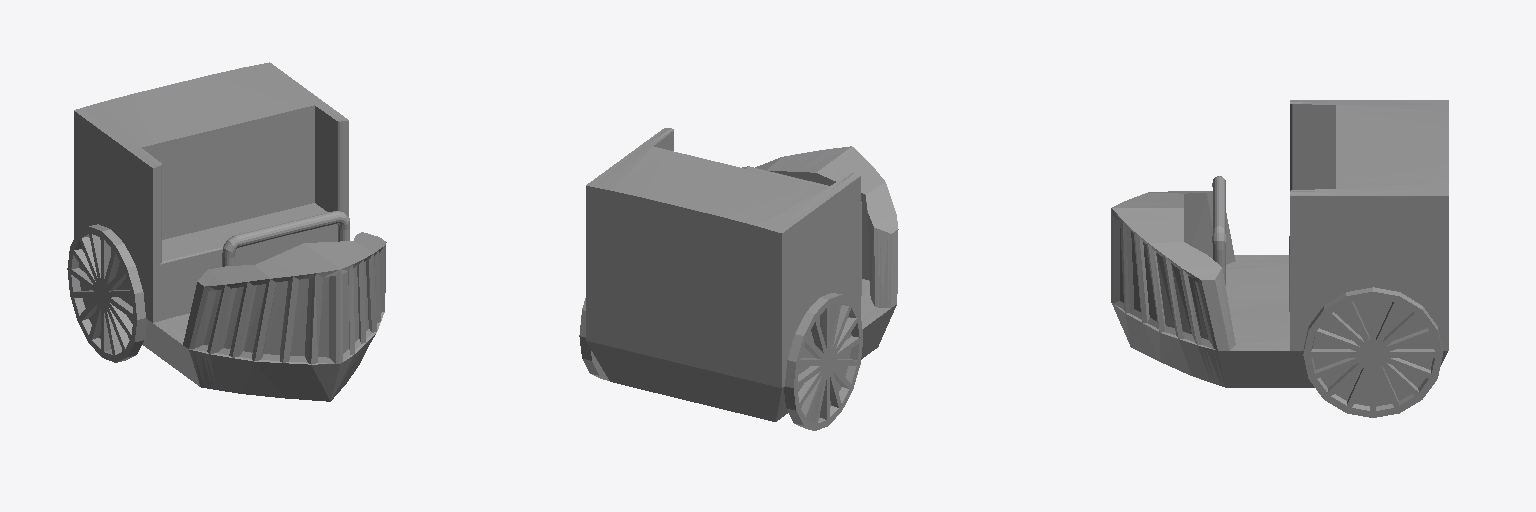
Rendered from kart.obj.
The picture shows the model from 3 angles: view 1: azimuth 30°, elevation 25°; view 2: azimuth 150°, elevation 25°; view 3: azimuth 270°, elevation 25°; orthographic projection.
Parts seen in each view (by area): view 1: kart_Cube.003; view 2: kart_Cube.003; view 3: kart_Cube.003.
Part boxes in pixels (x1,y1,x2,y2): kart_Cube.003: (67, 62, 386, 401); kart_Cube.003: (579, 128, 898, 430); kart_Cube.003: (1111, 100, 1448, 417).
Bounding box in the file's own units: 1.96 × 1.93 × 2.67.